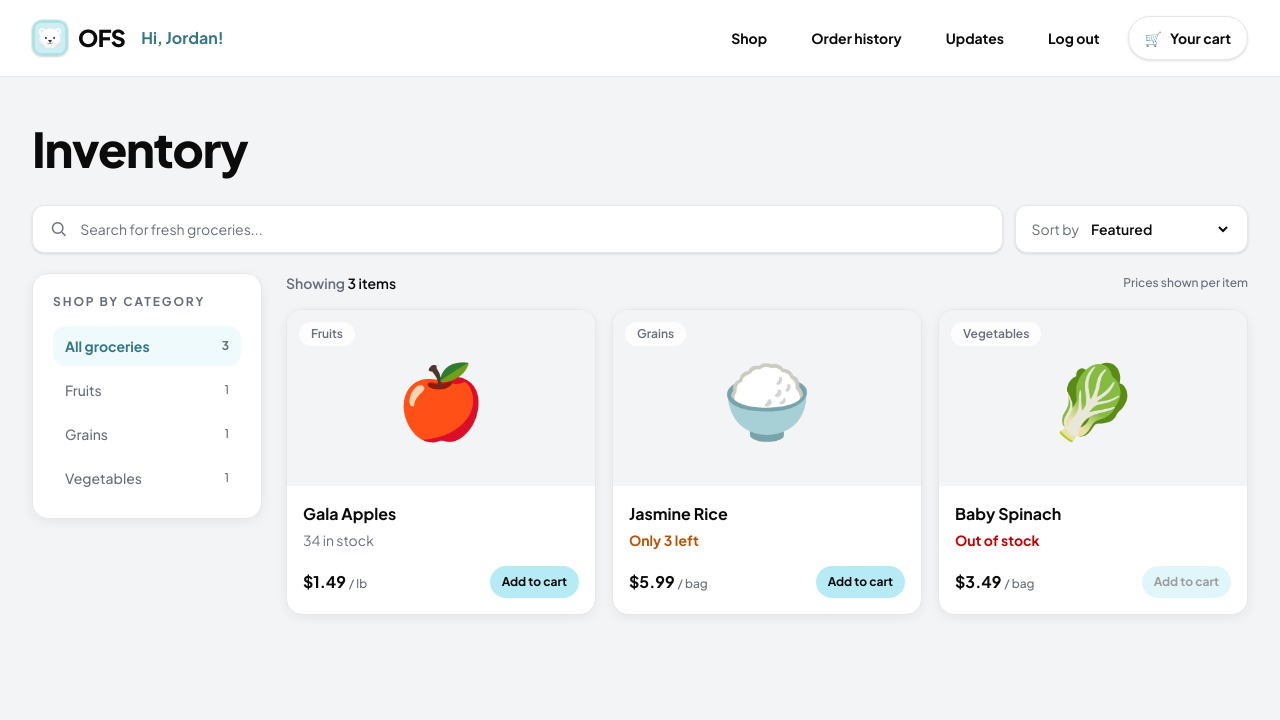
it: customer product view › adds a product to the cart and confirms it
The width and height of the screenshot is (1280, 720).
Expected: the heading "Gala Apples" is shown, [303,503,396,524]
Click the button "Add to cart" next to "lb". click: (534, 582)
box: [490,566,579,598]
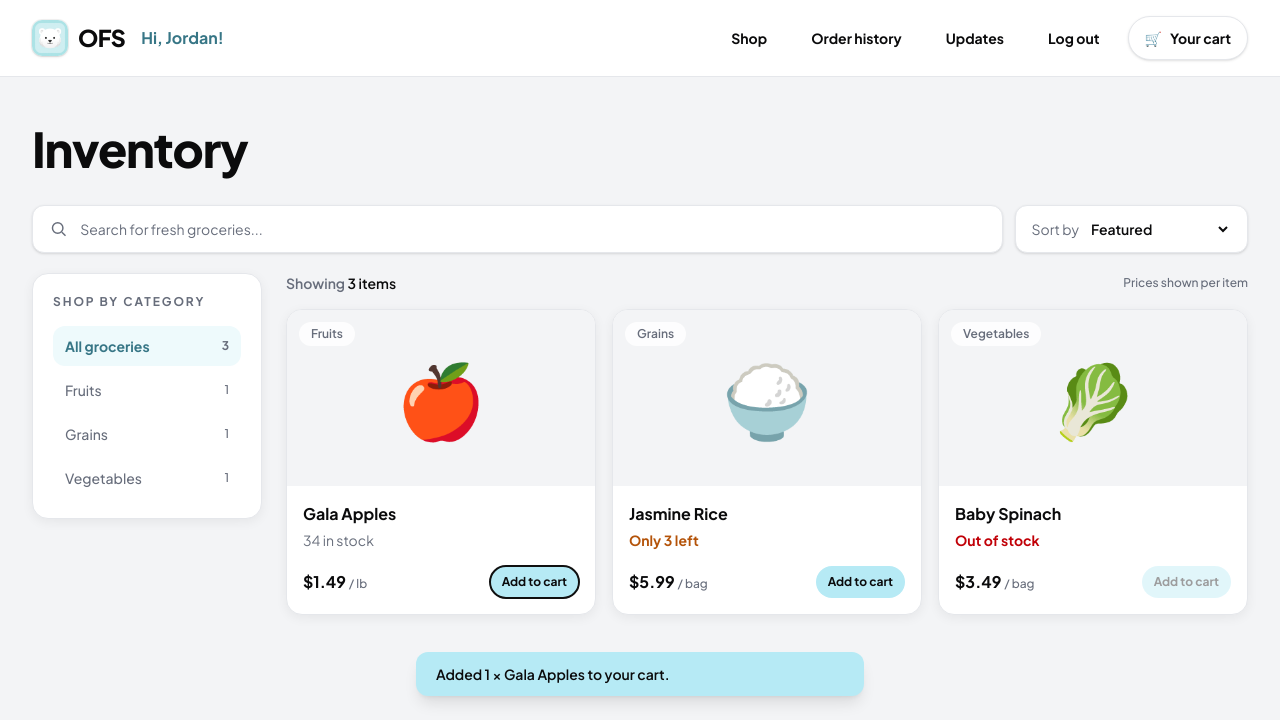
Now the text "Added 1 × Gala Apples to your cart." is shown, box [416,652,864,696]
